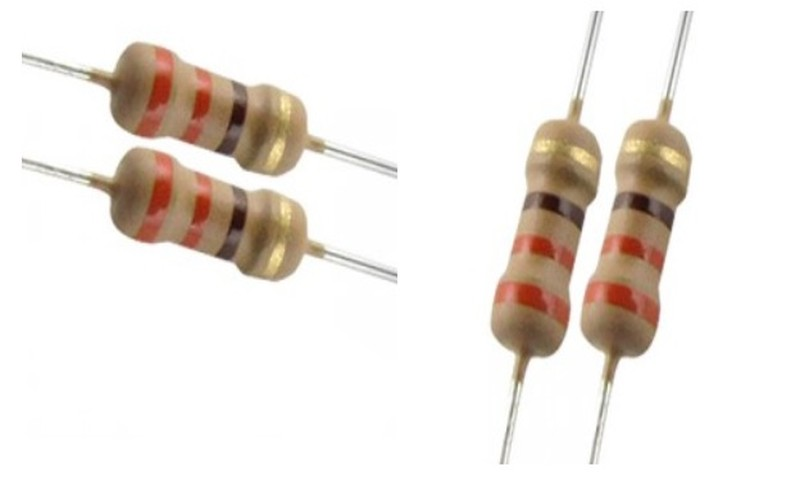Resistor: (449, 75, 714, 380), (80, 17, 344, 297)
